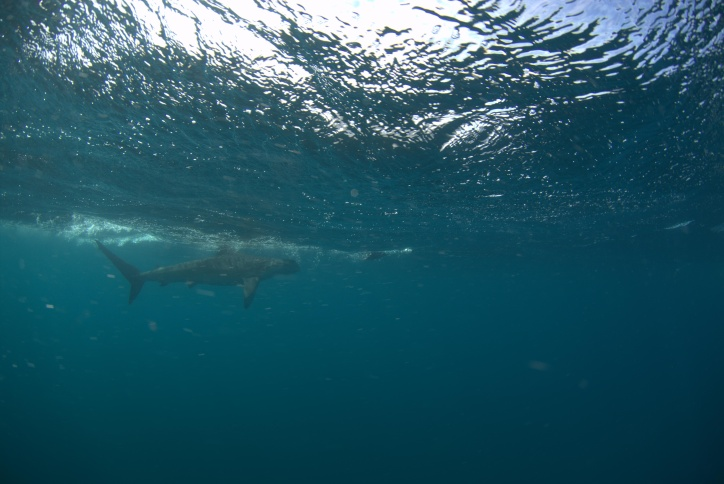Hammer: (77, 211, 331, 328)
